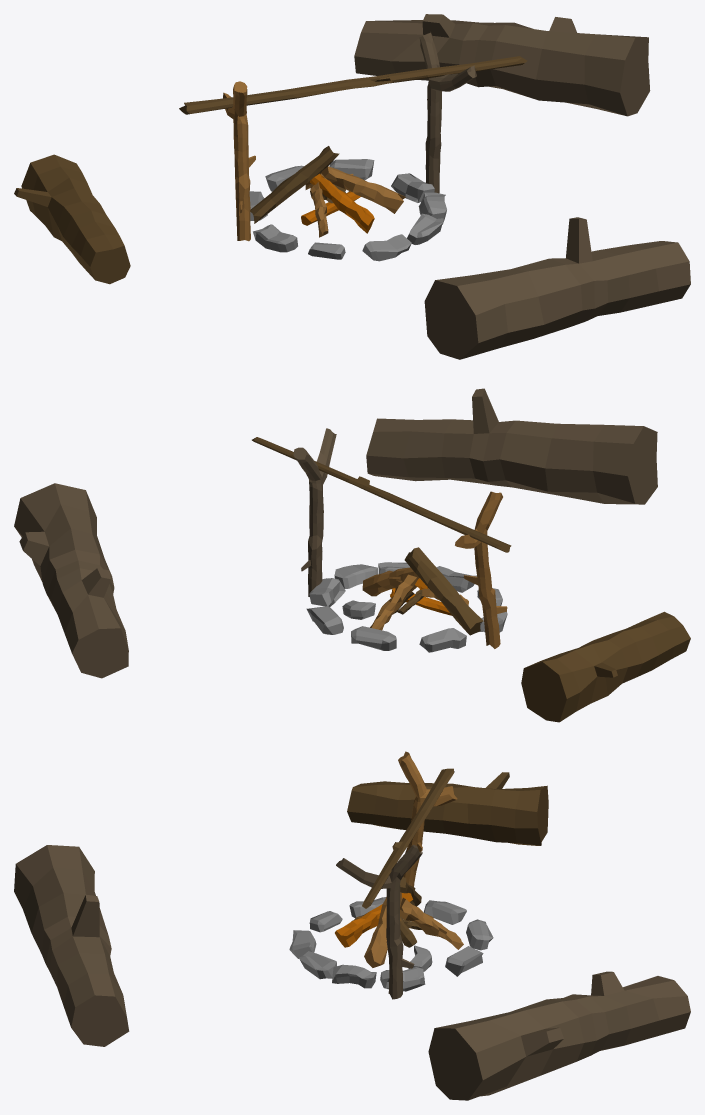
File: bonfire with stand.fbx
3 views of the same model, one above another, from view 1: azimuth 30°, elevation 25°; view 2: azimuth 150°, elevation 25°; view 3: azimuth 270°, elevation 25° (orthographic). The views are drawn at different scales.
Parts seen in each view (by area): view 1: Cylinder.001, Cylinder.013, Cylinder.011, Cylinder.012, Cylinder.003, Cylinder.002, Cylinder.004, Cube, Cube.002, Cube.006, Cube.008, Cube.005 (+2 smaller); view 2: Cylinder.001, Cylinder.011, Cylinder.012, Cylinder.013, Cylinder.003, Cylinder.002, Cylinder.009, Cube.004, Cube.003, Cube.006, Cube.005, Cube.007 (+1 smaller); view 3: Cylinder.001, Cylinder.011, Cylinder.013, Cylinder.012, Cylinder.009, Cylinder.004, Cylinder.002, Cube.007, Cube.003, Cube.005, Cube.008, Cube.004 (+2 smaller).
Part boxes in pixels (box(x1,y1,x2,y2)): Cylinder.001: box(14, 14, 690, 359); Cylinder.013: box(179, 56, 527, 114); Cylinder.011: box(419, 31, 476, 193); Cylinder.012: box(223, 81, 255, 241); Cylinder.003: box(250, 146, 339, 223); Cylinder.002: box(320, 166, 405, 213); Cylinder.004: box(310, 173, 374, 233); Cube: box(362, 234, 411, 261); Cube.002: box(253, 224, 297, 252); Cube.006: box(391, 173, 434, 202); Cube.008: box(407, 213, 443, 244); Cube.005: box(329, 159, 374, 180); Cylinder.001: box(14, 388, 690, 722); Cylinder.011: box(293, 428, 336, 596); Cylinder.012: box(455, 491, 507, 648); Cylinder.013: box(252, 437, 511, 552); Cylinder.003: box(404, 547, 483, 635); Cylinder.002: box(362, 567, 419, 596); Cylinder.009: box(370, 574, 417, 630); Cube.004: box(351, 626, 396, 650); Cube.003: box(419, 628, 466, 652); Cube.006: box(309, 578, 345, 606); Cube.005: box(306, 606, 343, 634); Cube.007: box(334, 564, 377, 588); Cylinder.001: box(14, 772, 690, 1100); Cylinder.011: box(336, 844, 422, 999); Cylinder.013: box(362, 768, 454, 908); Cylinder.012: box(398, 751, 457, 886); Cylinder.009: box(400, 897, 463, 949); Cylinder.004: box(335, 893, 412, 947); Cylinder.002: box(364, 892, 402, 967); Cube.007: box(332, 964, 376, 988); Cube.003: box(423, 900, 466, 924); Cube.005: box(445, 946, 483, 976); Cube.008: box(299, 951, 336, 979); Cube.004: box(466, 919, 493, 950).
Size of the model in its own units: 2268 by 576 by 2192.
